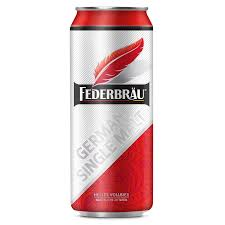can: (65, 4, 161, 223)
